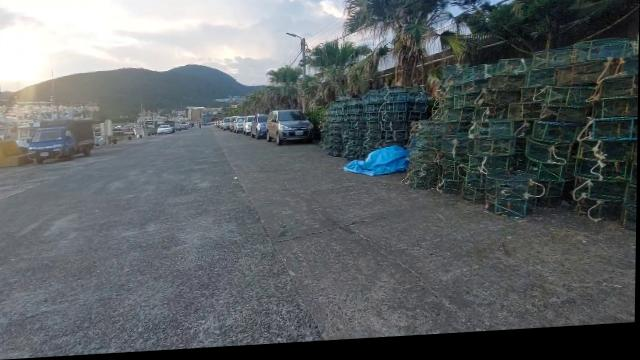pollute: (341, 147, 410, 181)
